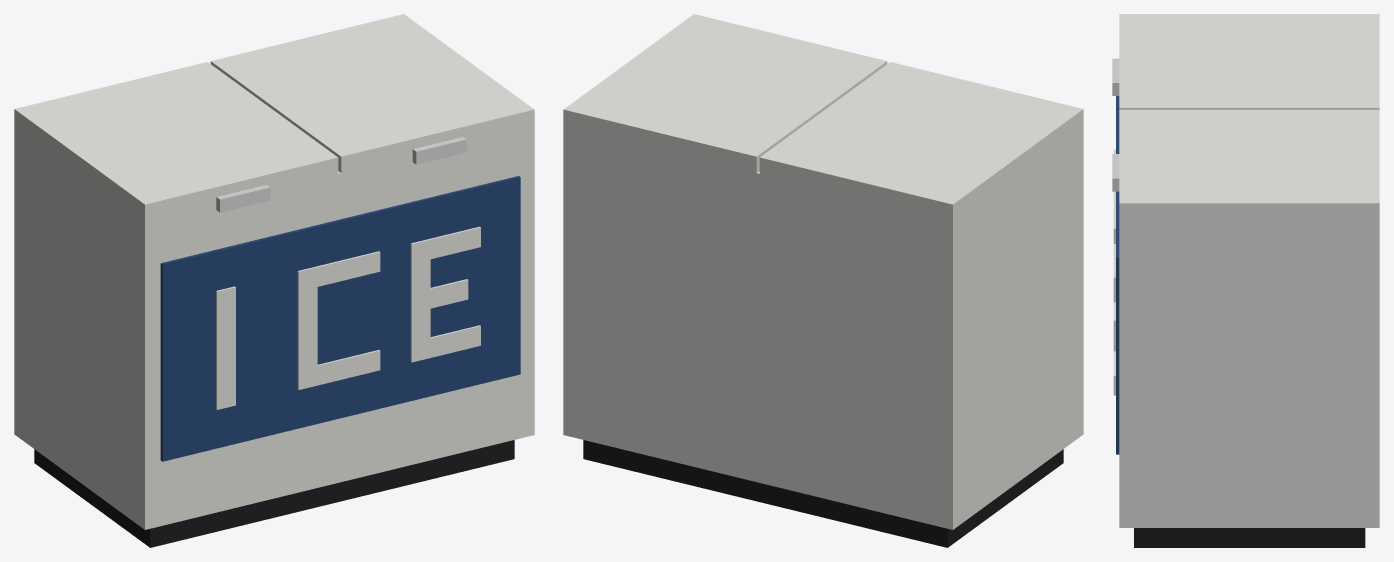
File: ice_chest.glb
3 renders of one model, left to right at view 1: azimuth 30°, elevation 25°; view 2: azimuth 150°, elevation 25°; view 3: azimuth 270°, elevation 25°, orthographic.
Visible parts, largest first — view 1: ice_chest; view 2: ice_chest; view 3: ice_chest.
Boxes of the visible parts, left/top/right/bottom form: ice_chest: left=14, top=14, right=534, bottom=547; ice_chest: left=563, top=14, right=1083, bottom=547; ice_chest: left=1112, top=14, right=1379, bottom=547.
Bounding box in the file's own units: 1.24 × 1.07 × 0.74.
1 material, 1 textured.
